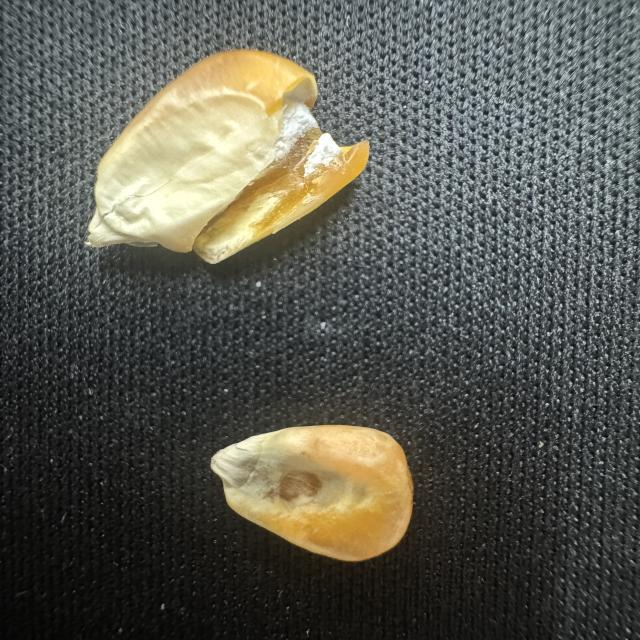Bad-Seed: (77, 35, 387, 285), (204, 418, 432, 562)
